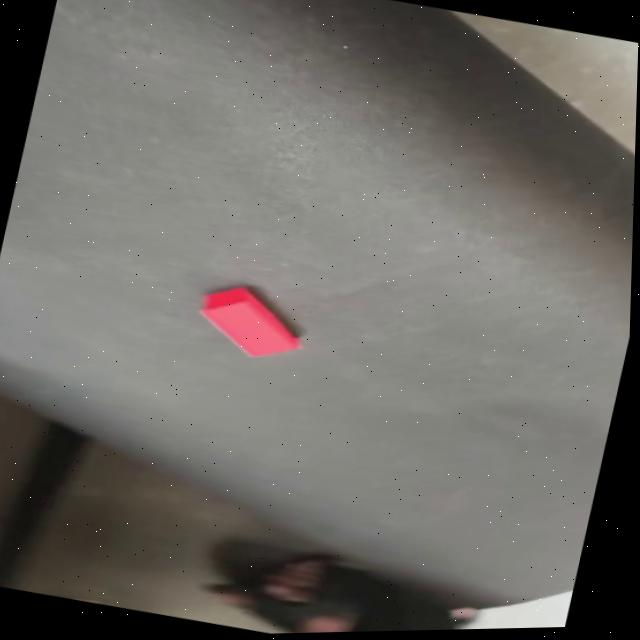red block: (188, 277, 312, 368)
